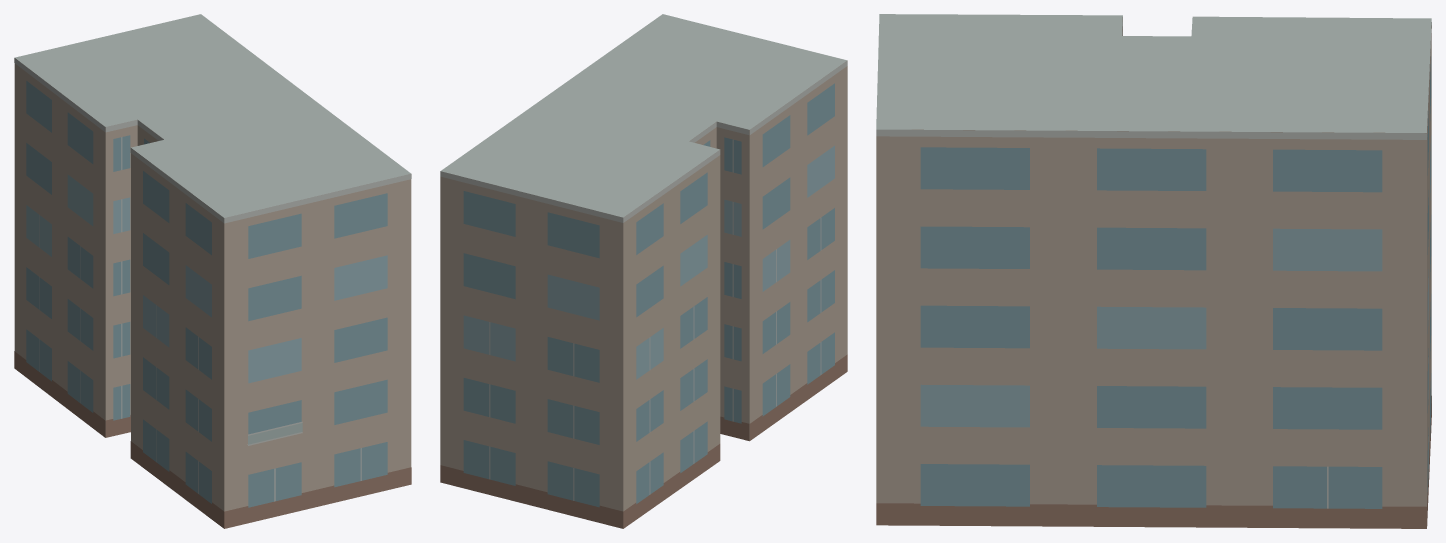
Rendered from survey-upis-33042271.glb.
The picture shows the model from 3 angles, left to right: view 1: azimuth 30°, elevation 25°; view 2: azimuth 150°, elevation 25°; view 3: azimuth 270°, elevation 25°; orthographic projection. The views are drawn at different scales.
Visible parts, largest first — view 1: survey-upis-33042271.tmp; view 2: survey-upis-33042271.tmp; view 3: survey-upis-33042271.tmp.
Part boxes in pixels (x1,y1,x2,y2): survey-upis-33042271.tmp: (14,14,411,528); survey-upis-33042271.tmp: (440,14,847,528); survey-upis-33042271.tmp: (876,14,1431,528).
Size of the model in its own units: 9.01 by 13.95 by 17.76.
